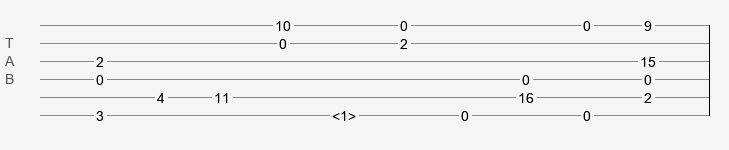0: (96, 72, 104, 82), (279, 36, 287, 46), (400, 18, 408, 28), (461, 108, 469, 118), (522, 72, 530, 82), (583, 18, 591, 28), (583, 108, 591, 118), (644, 72, 652, 82)
10: (275, 18, 291, 28)
11: (214, 90, 230, 100)
15: (640, 54, 656, 64)
16: (518, 90, 534, 100)
2: (96, 54, 104, 64), (400, 36, 408, 46), (644, 90, 652, 100)
3: (96, 108, 104, 118)
4: (157, 90, 165, 100)
9: (644, 18, 652, 28)
harmonic: (332, 108, 356, 118)
